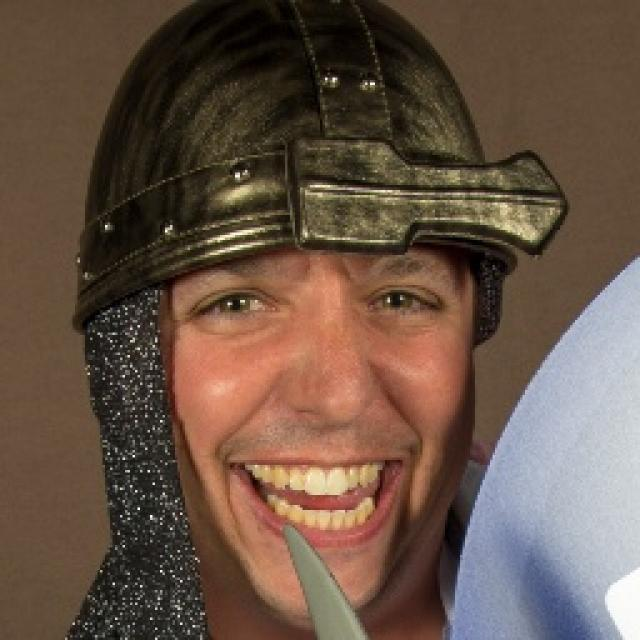eye: (361, 287, 440, 321), (196, 291, 282, 321)
nose: (288, 413, 375, 457)
